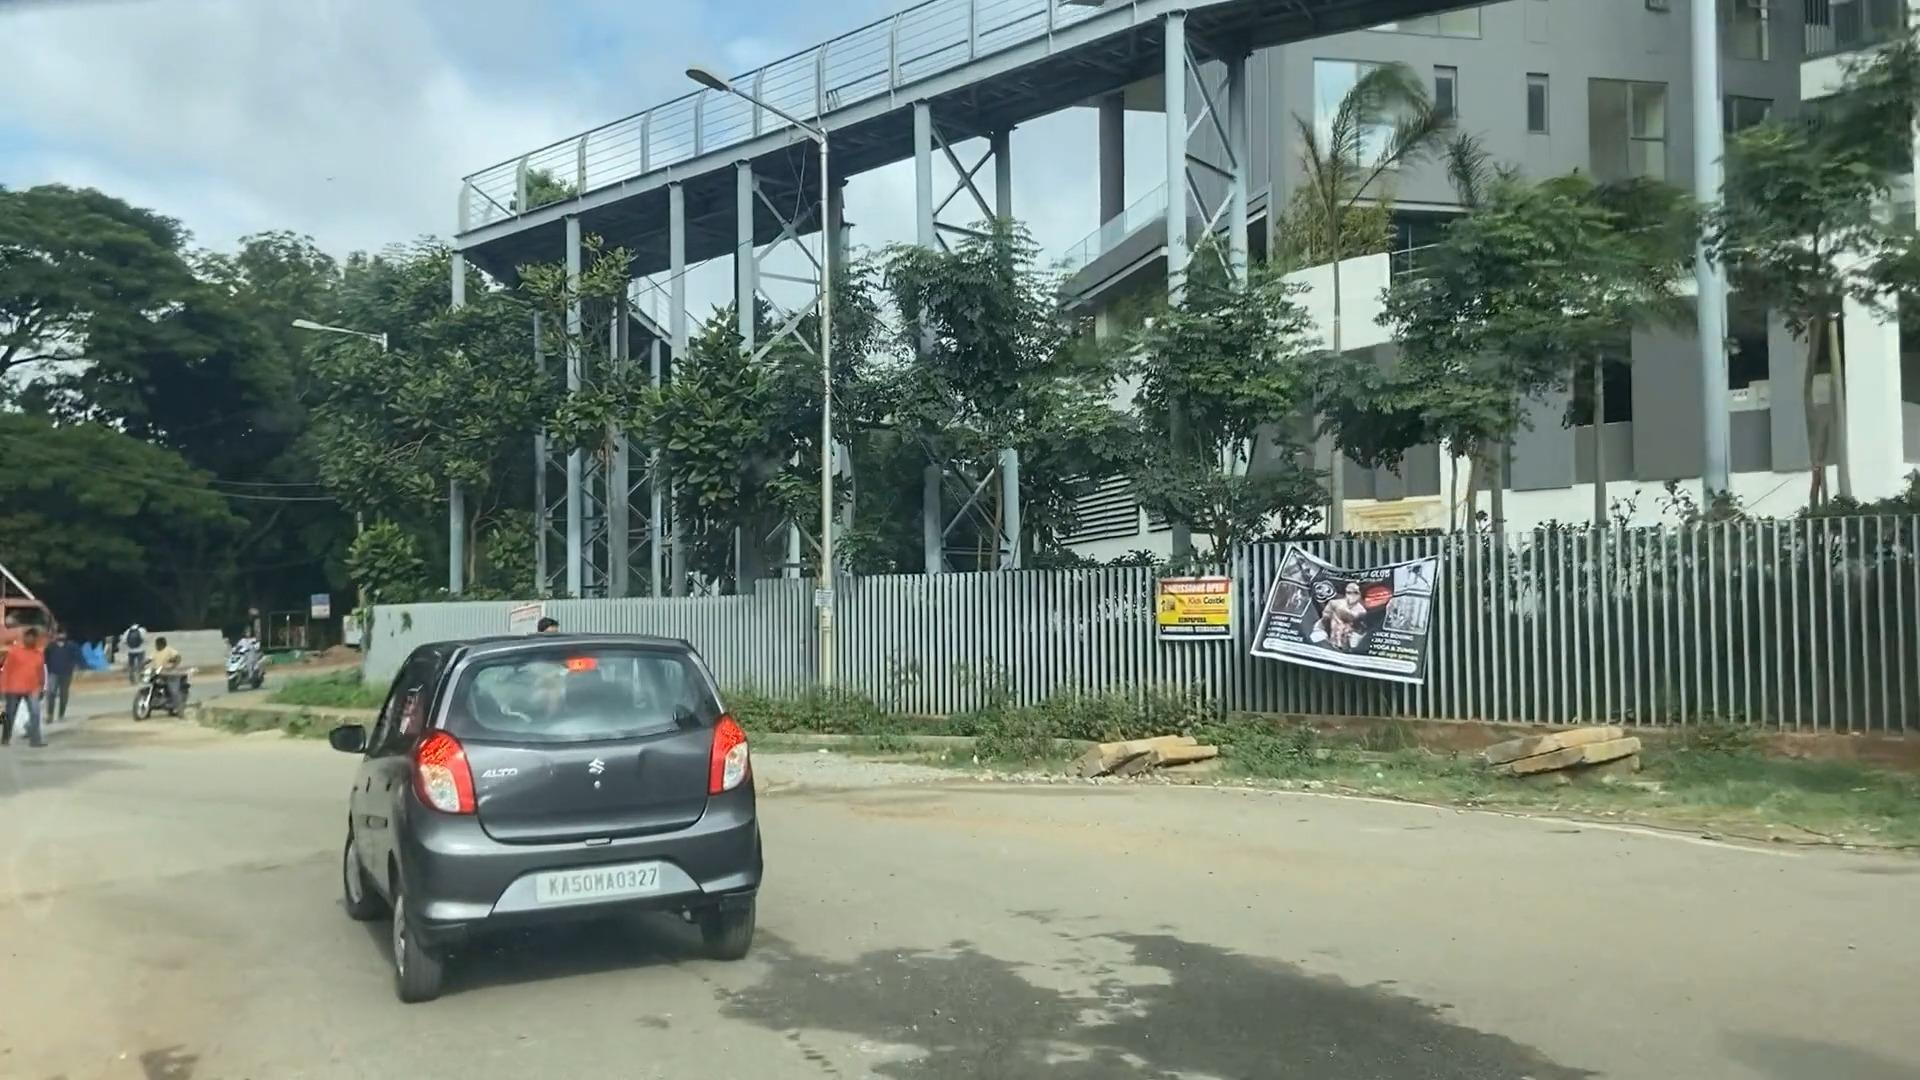LMV: (338, 638, 765, 964)
